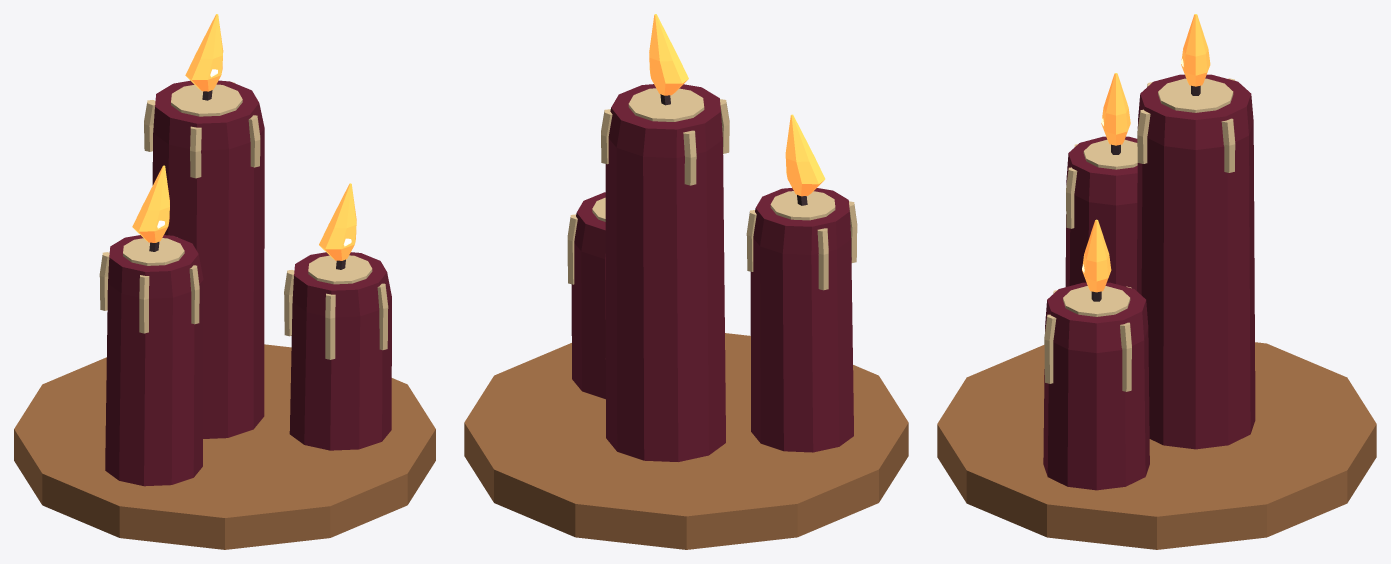
File: candles_advent.glb
3 views of the same model, side by side, from view 1: azimuth 30°, elevation 25°; view 2: azimuth 150°, elevation 25°; view 3: azimuth 270°, elevation 25° (orthographic). The views are drawn at different scales.
Parts seen in each view (by area): view 1: Warm brass saucer.001, Poured candle wax.001, Poured candle wax.002, Poured candle wax.003, Melted wax pool.001, Outer flame.001, Outer flame.003, Outer flame.002, Melted wax pool.003, Melted wax pool.002, Wax drip.014, Wax drip.006 (+5 smaller); view 2: Warm brass saucer.001, Poured candle wax.001, Poured candle wax.002, Poured candle wax.003, Melted wax pool.001, Outer flame.001, Outer flame.002, Melted wax pool.002, Wax drip.005, Wax drip.009, Wax drip.012; view 3: Warm brass saucer.001, Poured candle wax.001, Poured candle wax.003, Poured candle wax.002, Melted wax pool.001, Melted wax pool.003, Outer flame.001, Outer flame.003, Outer flame.002, Melted wax pool.002, Wax drip.012, Wax drip.015 (+3 smaller).
Boxes of the visible parts, box(x1,y1,x2,y2) form: Warm brass saucer.001: box(14, 344, 435, 549); Poured candle wax.001: box(152, 80, 264, 438); Poured candle wax.002: box(105, 235, 203, 486); Poured candle wax.003: box(289, 252, 391, 450); Melted wax pool.001: box(171, 84, 242, 116); Outer flame.001: box(185, 14, 223, 91); Outer flame.003: box(319, 183, 356, 260); Outer flame.002: box(132, 165, 169, 242); Melted wax pool.003: box(308, 255, 372, 284); Melted wax pool.002: box(123, 238, 184, 265); Wax drip.014: box(325, 293, 335, 359); Wax drip.006: box(190, 126, 201, 178); Warm brass saucer.001: box(464, 333, 908, 549); Poured candle wax.001: box(605, 84, 725, 461); Poured candle wax.002: box(750, 188, 853, 452); Poured candle wax.003: box(571, 192, 605, 399); Melted wax pool.001: box(628, 88, 704, 121); Outer flame.001: box(649, 14, 688, 95); Outer flame.002: box(785, 114, 825, 196); Melted wax pool.002: box(770, 191, 835, 220); Wax drip.005: box(683, 130, 696, 185); Wax drip.009: box(817, 228, 828, 290); Wax drip.012: box(567, 214, 577, 284); Warm brass saucer.001: box(937, 342, 1376, 549); Poured candle wax.001: box(1137, 74, 1255, 449); Poured candle wax.003: box(1043, 282, 1149, 490); Poured candle wax.002: box(1065, 136, 1137, 290); Melted wax pool.001: box(1158, 78, 1233, 112); Melted wax pool.003: box(1063, 286, 1130, 316); Outer flame.001: box(1181, 14, 1210, 86); Outer flame.003: box(1082, 219, 1111, 292); Outer flame.002: box(1101, 73, 1130, 145); Melted wax pool.002: box(1083, 139, 1137, 169); Wax drip.012: box(1120, 322, 1131, 391); Wax drip.015: box(1044, 314, 1056, 383).
Size of the model in its own units: 0.204 by 0.2295 by 0.204.
